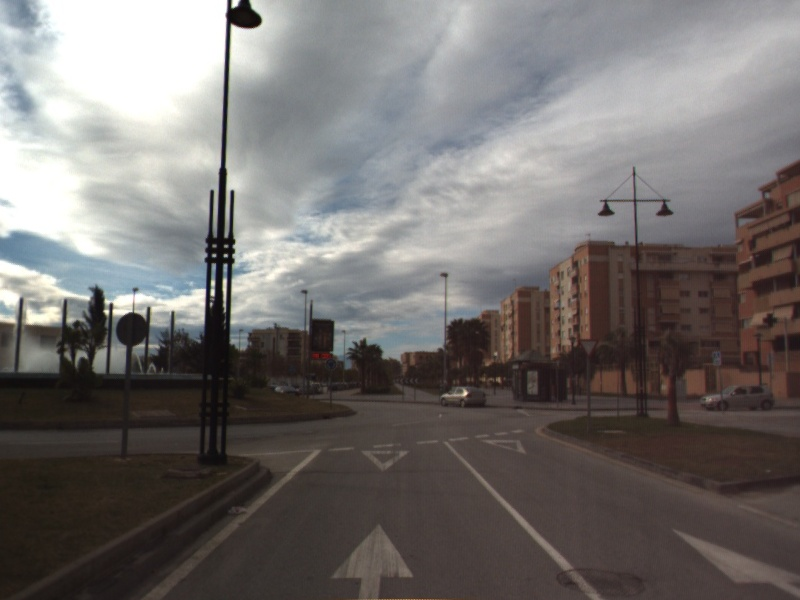STRAIGHT: (670, 526, 800, 599), (327, 521, 417, 600)
